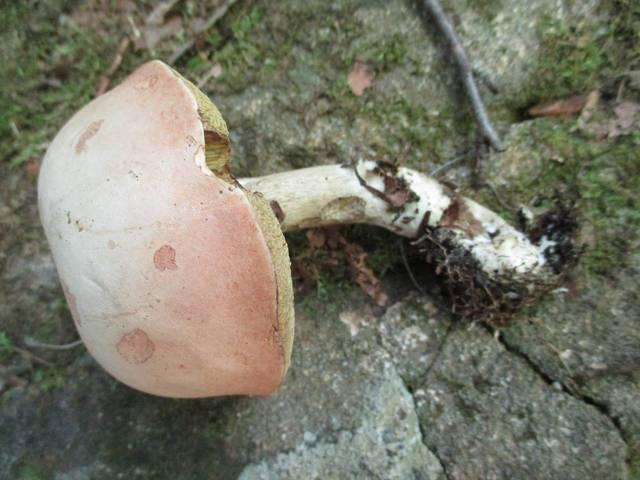Edible Mushroom: (35, 57, 563, 400)
